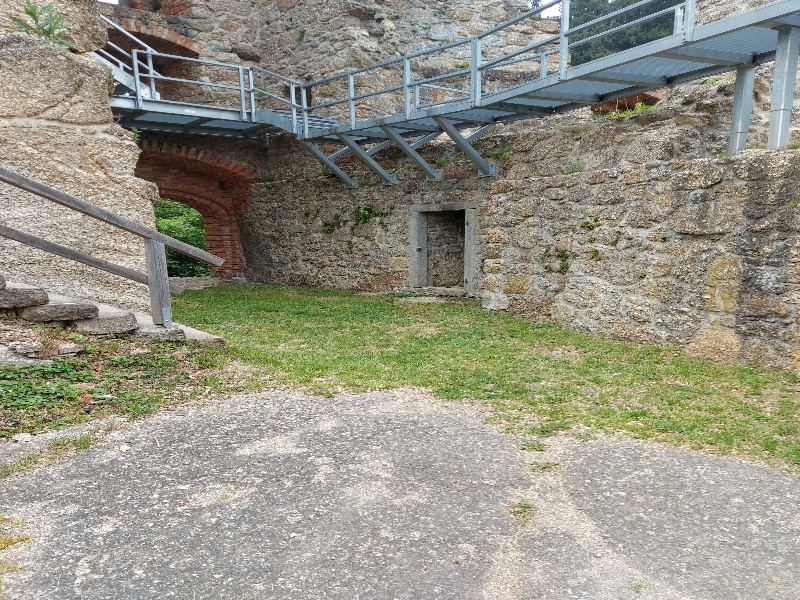door1: (398, 197, 484, 301)
